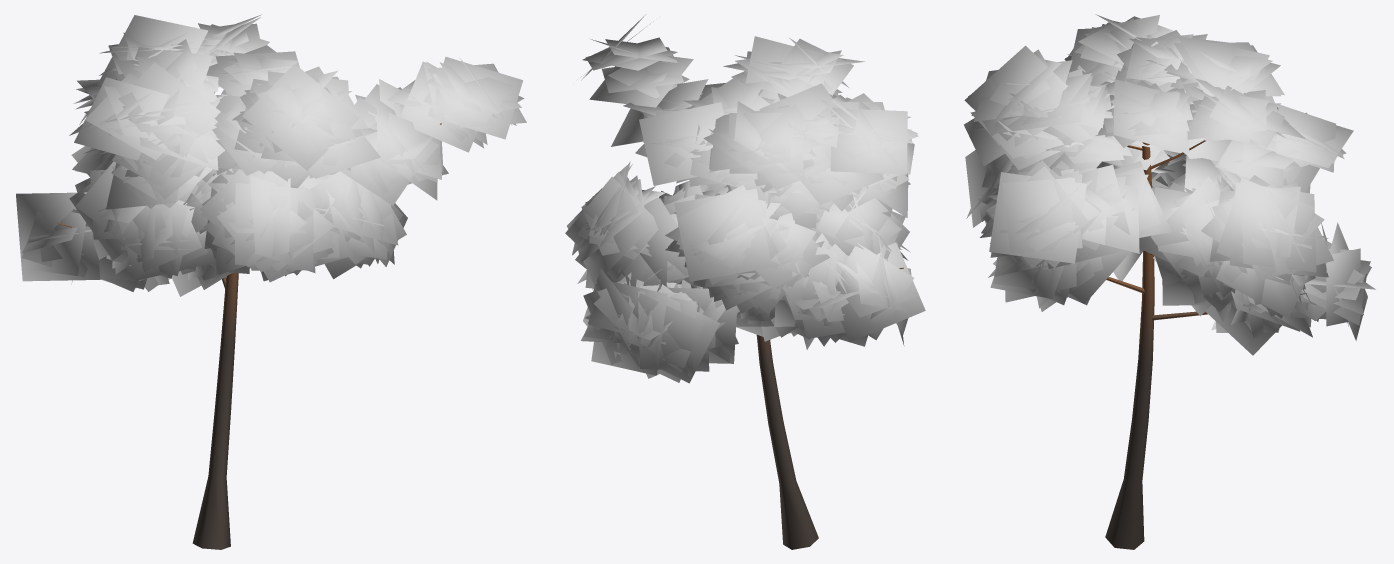
3 views of the same model, side by side, from view 1: azimuth 30°, elevation 25°; view 2: azimuth 150°, elevation 25°; view 3: azimuth 270°, elevation 25° (orthographic). The views are drawn at different scales.
Visible parts, largest first — view 1: crown, trunk; view 2: crown, trunk; view 3: crown, trunk.
Boxes of the visible parts, x1,y1,x2,y2 form: crown: [16, 14, 526, 296]; trunk: [57, 123, 441, 549]; crown: [565, 14, 925, 383]; trunk: [756, 267, 903, 549]; crown: [964, 14, 1375, 355]; trunk: [1105, 140, 1207, 549].
Size of the model in its own units: 17.79 by 19.34 by 14.73.
